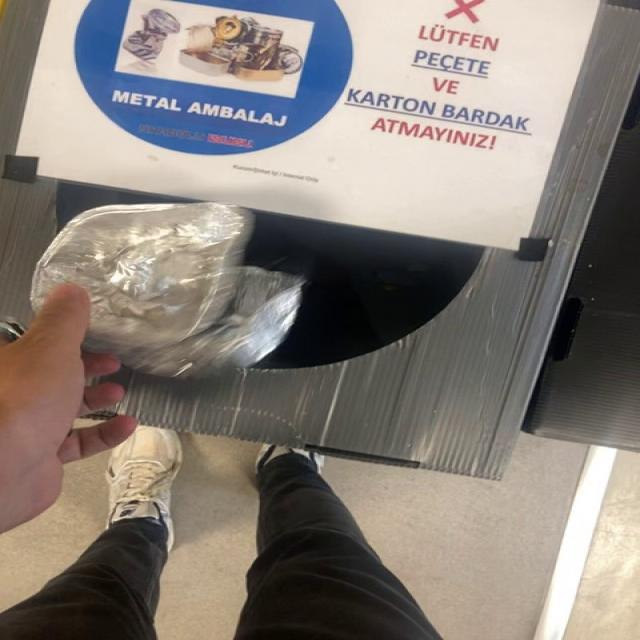metal: (32, 204, 305, 378)
